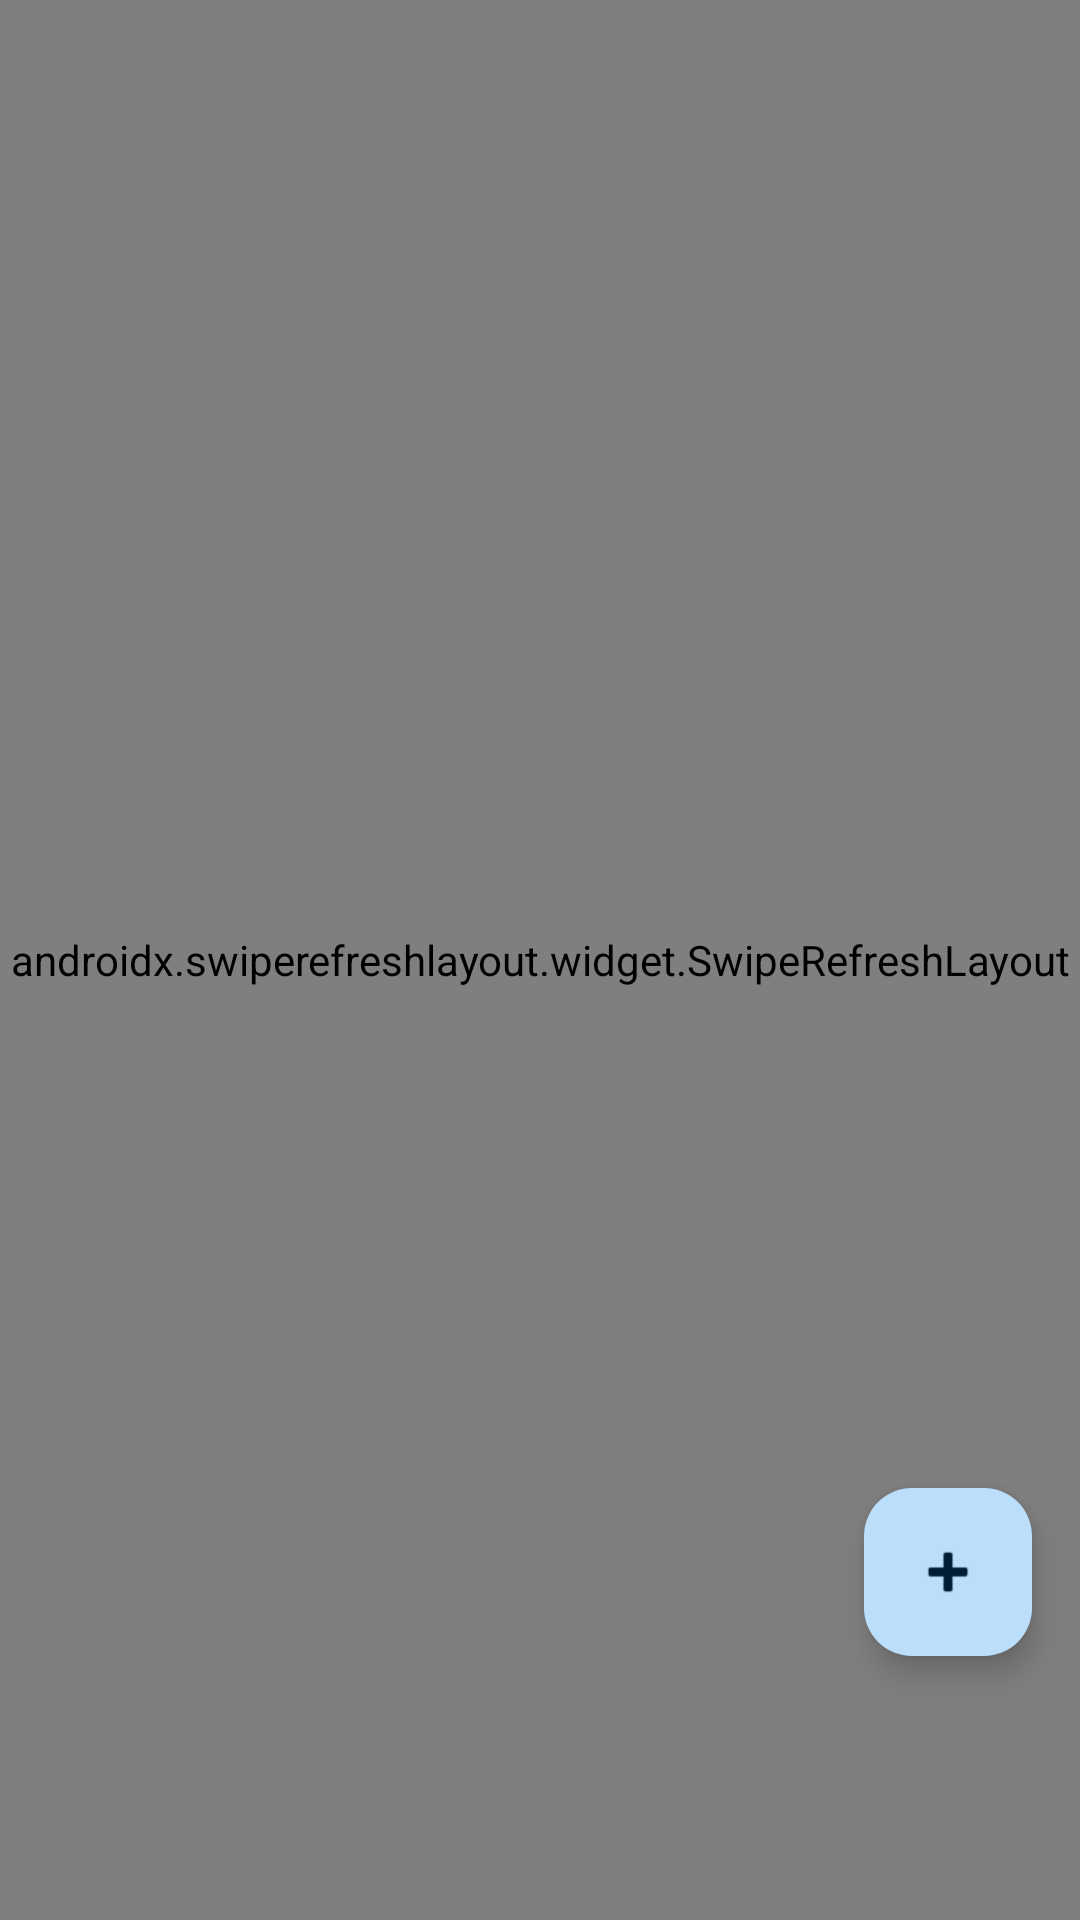

Named icons in this screenshot (1080*1920) and their centers, [x,y]:
Thêm mới: [948,1572]
